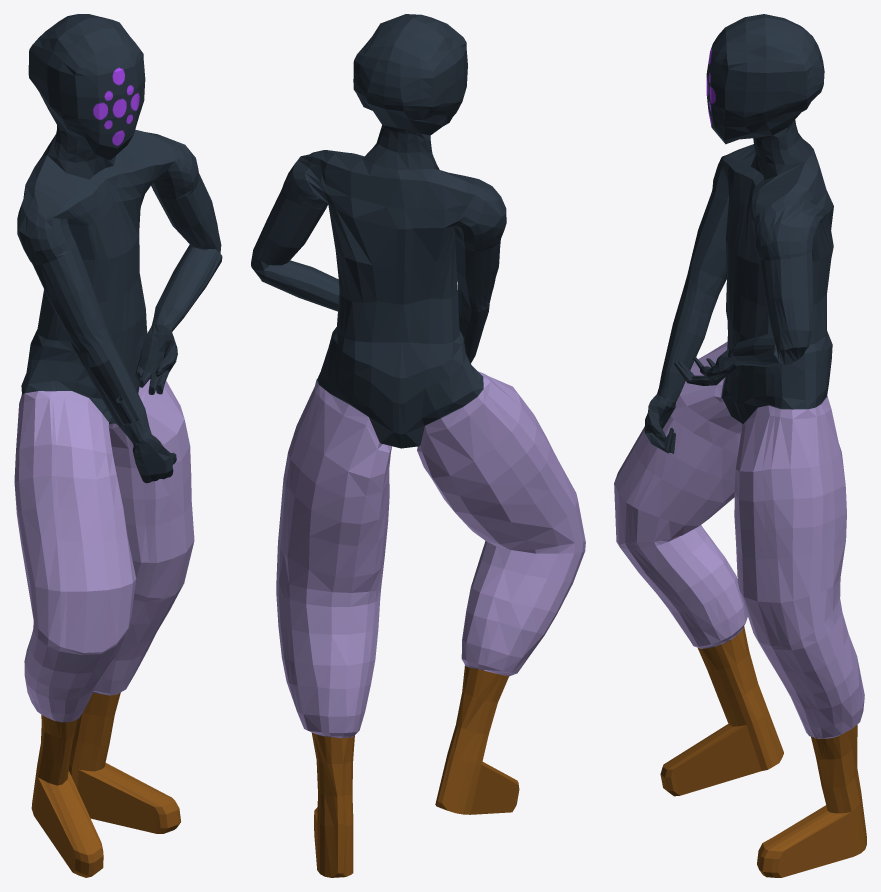
Rendered from Oracle_WR_000005.obj.
3 views of the same model, side by side, from view 1: azimuth 30°, elevation 25°; view 2: azimuth 150°, elevation 25°; view 3: azimuth 270°, elevation 25° (orthographic).
Visible parts, largest first — view 1: Cube; view 2: Cube; view 3: Cube.
Boxes of the visible parts, <box> form: Cube: <box>14,14,222,877</box>; Cube: <box>251,14,585,877</box>; Cube: <box>614,14,866,877</box>.
Size of the model in its own units: 1.24 by 3.88 by 1.09.
